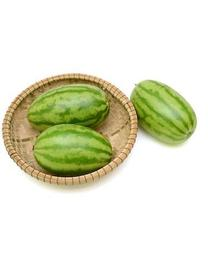watermelon: (129, 78, 199, 142), (34, 124, 112, 175), (28, 86, 110, 127)
